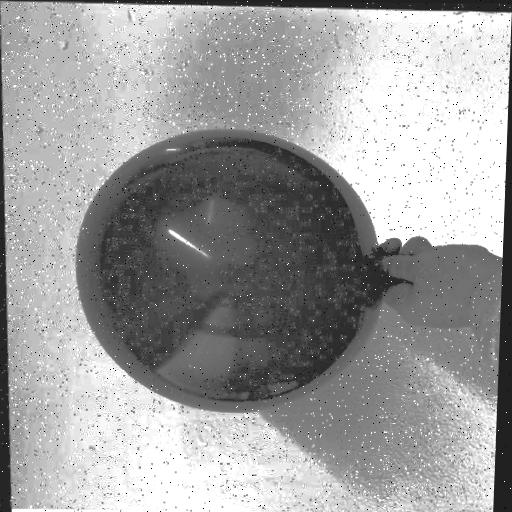balloon: (57, 118, 394, 424)
